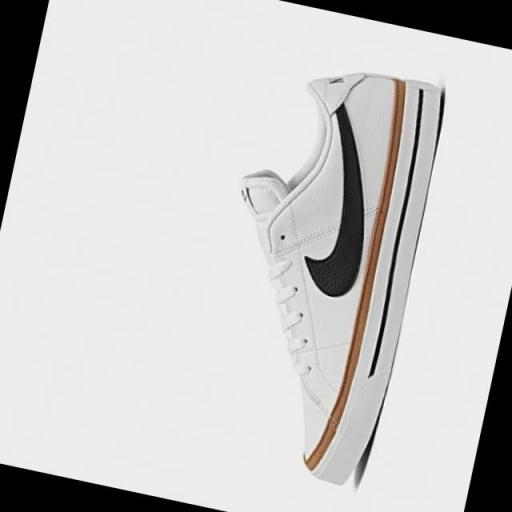Nike: (294, 114, 393, 304)
